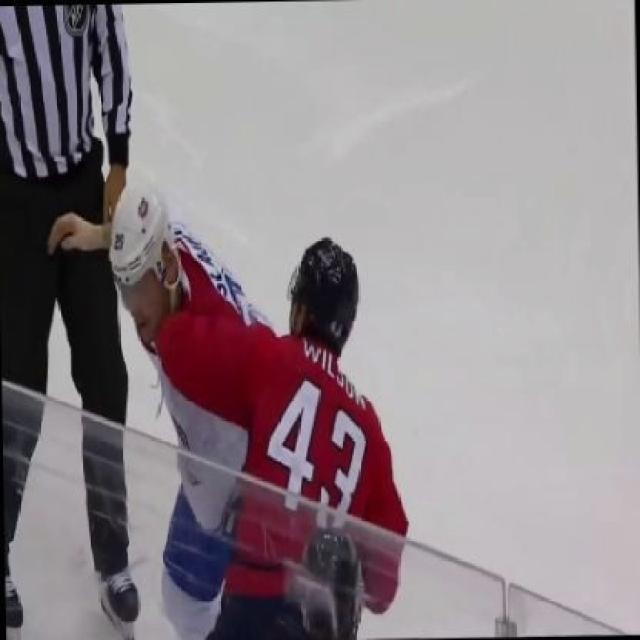fight: (48, 182, 408, 640)
non-fight: (0, 0, 138, 623)
